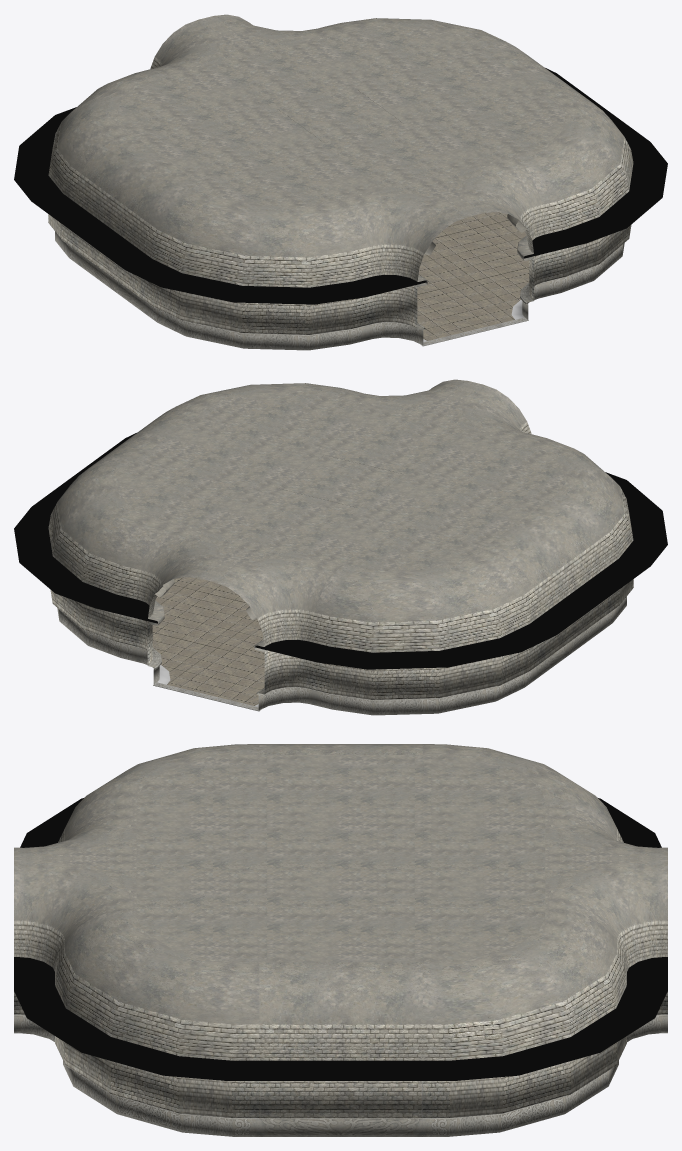
Rendered from dungeon_room_02.fbx.
3 renders of one model, top to bottom at view 1: azimuth 30°, elevation 25°; view 2: azimuth 150°, elevation 25°; view 3: azimuth 270°, elevation 25°, orthographic. The views are drawn at different scales.
Parts seen in each view (by area): view 1: dungeon_room_02_Roof, dungeon_room_02_Wall; view 2: dungeon_room_02_Roof, dungeon_room_02_Wall; view 3: dungeon_room_02_Roof, dungeon_room_02_Wall.
Part boxes in pixels (box(x1,y1,x2,y2)): dungeon_room_02_Roof: box(48, 14, 633, 287); dungeon_room_02_Wall: box(14, 68, 667, 350); dungeon_room_02_Roof: box(48, 379, 633, 652); dungeon_room_02_Wall: box(14, 433, 667, 715); dungeon_room_02_Roof: box(14, 744, 667, 1060); dungeon_room_02_Wall: box(14, 798, 667, 1136).
Size of the model in its own units: 270 by 58.19 by 240.
